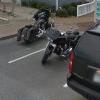Motorcycle: (9, 7, 71, 64)
